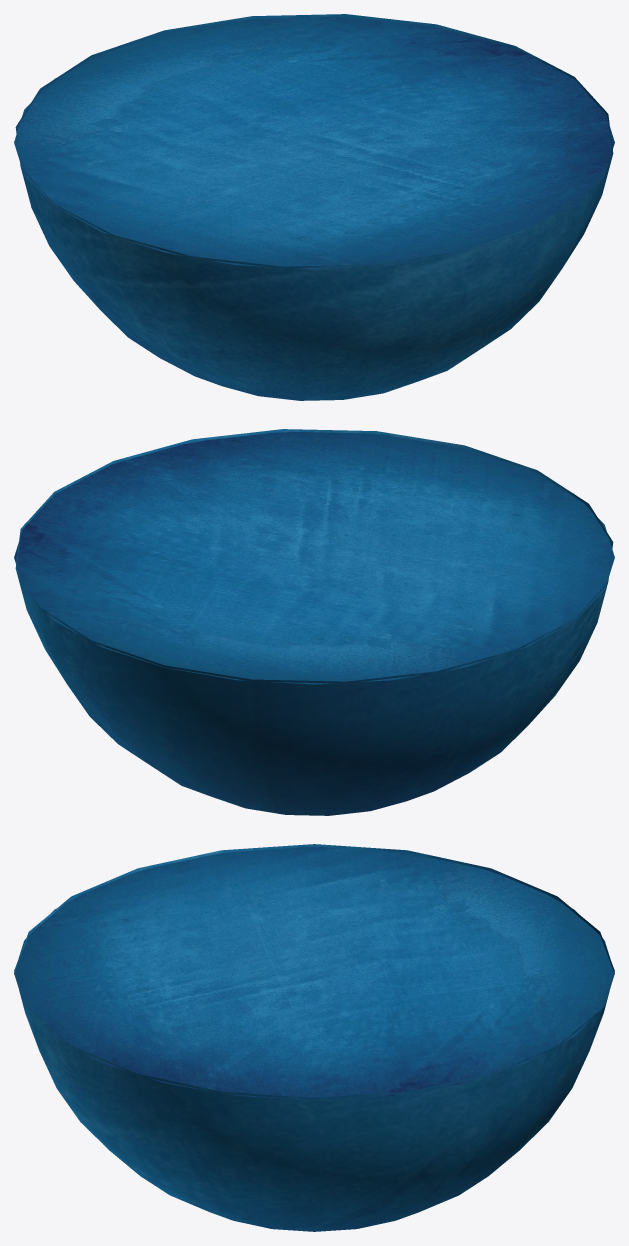
3 views of the same model, one above another, from view 1: azimuth 30°, elevation 25°; view 2: azimuth 150°, elevation 25°; view 3: azimuth 270°, elevation 25° (orthographic).
Visible parts, largest first — view 1: polySurface1; view 2: polySurface1; view 3: polySurface1.
Boxes of the visible parts, <box> form: polySurface1: <box>14,14,614,400</box>; polySurface1: <box>14,429,614,815</box>; polySurface1: <box>14,844,614,1231</box>.
Bounding box in the file's own units: 1.59 × 0.6782 × 1.59.
